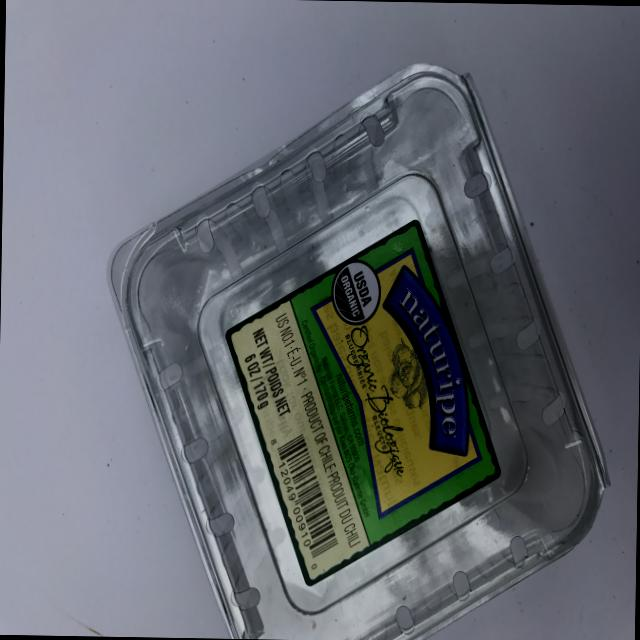Plastic: (83, 50, 625, 640)
